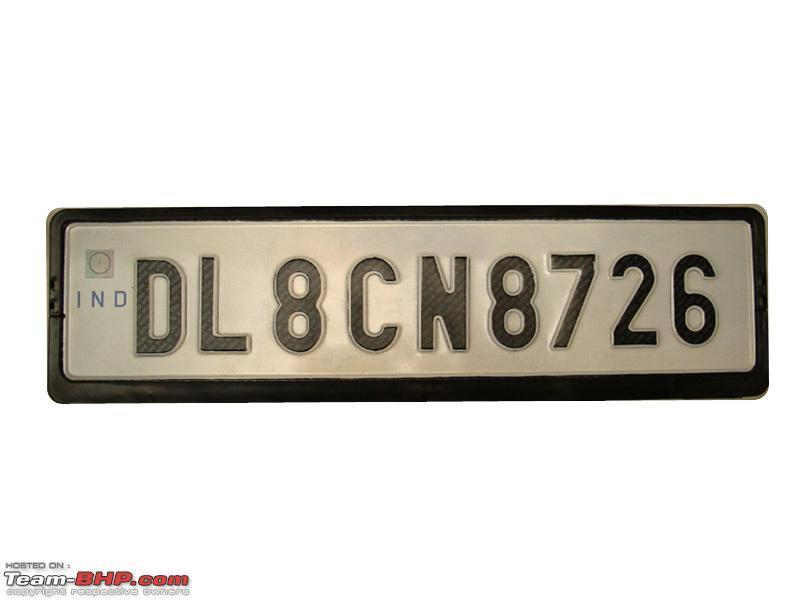number_plate: (53, 212, 766, 386)
